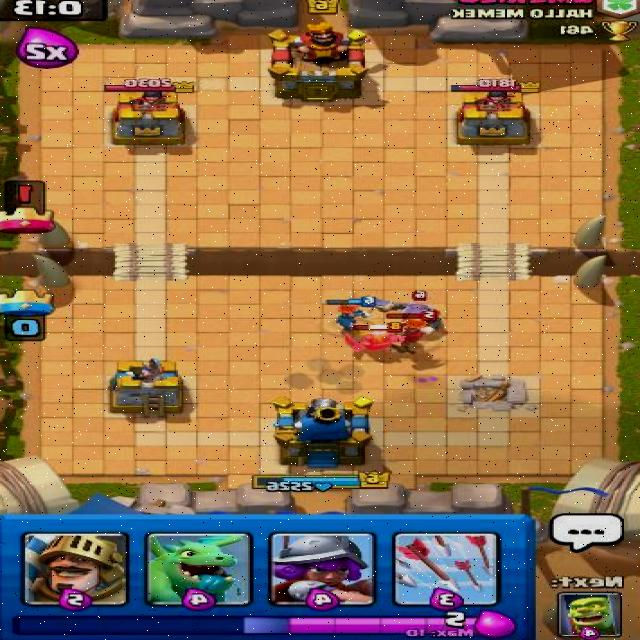Enemy-Knight: (370, 289, 446, 337)
Enemy-MiniPEKKA: (340, 321, 408, 354)
Enemy-Valkyrie: (385, 310, 437, 345)
Player-Valkyrie: (322, 295, 377, 332)
